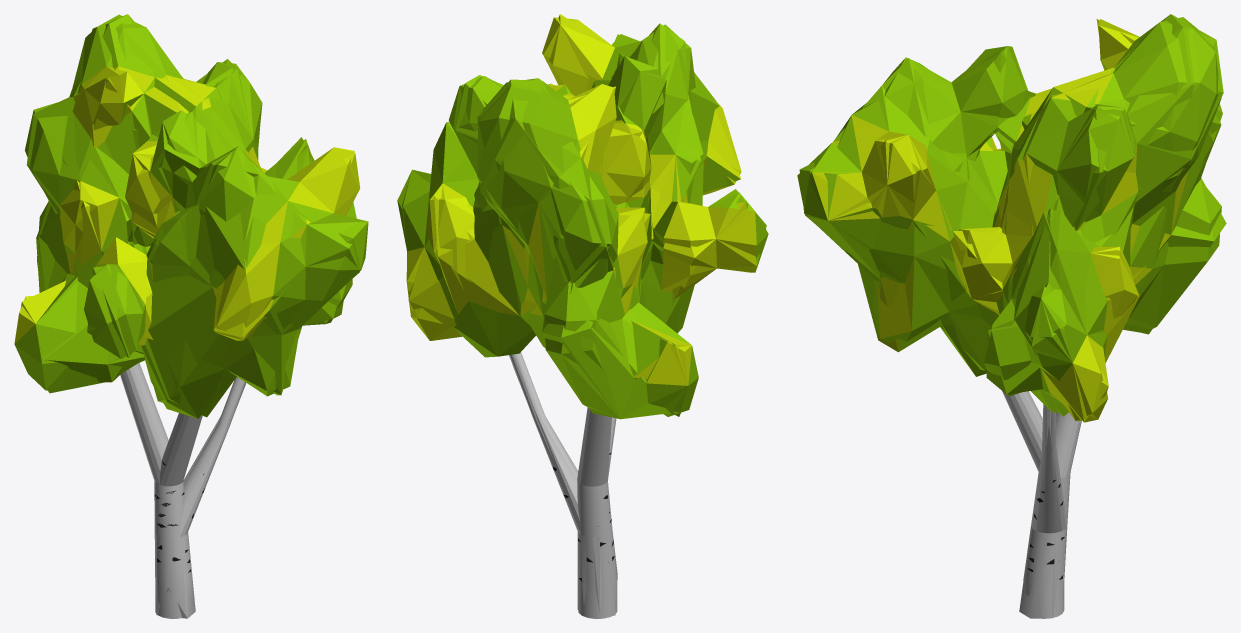
The model's file is Birch1.fbx.
The picture shows the model from 3 angles, left to right: view 1: azimuth 30°, elevation 25°; view 2: azimuth 150°, elevation 25°; view 3: azimuth 270°, elevation 25°; orthographic projection. The views are drawn at different scales.
Parts seen in each view (by area): view 1: Birch1HP, Birch1LP; view 2: Birch1HP, Birch1LP; view 3: Birch1HP, Birch1LP.
Part boxes in pixels (<box>): Birch1HP: <box>14,14,367,618</box>; Birch1LP: <box>20,14,368,618</box>; Birch1HP: <box>402,17,768,618</box>; Birch1LP: <box>397,14,766,615</box>; Birch1HP: <box>799,17,1222,618</box>; Birch1LP: <box>797,14,1226,618</box>.
Size of the model in its own units: 591 by 1004 by 659.
